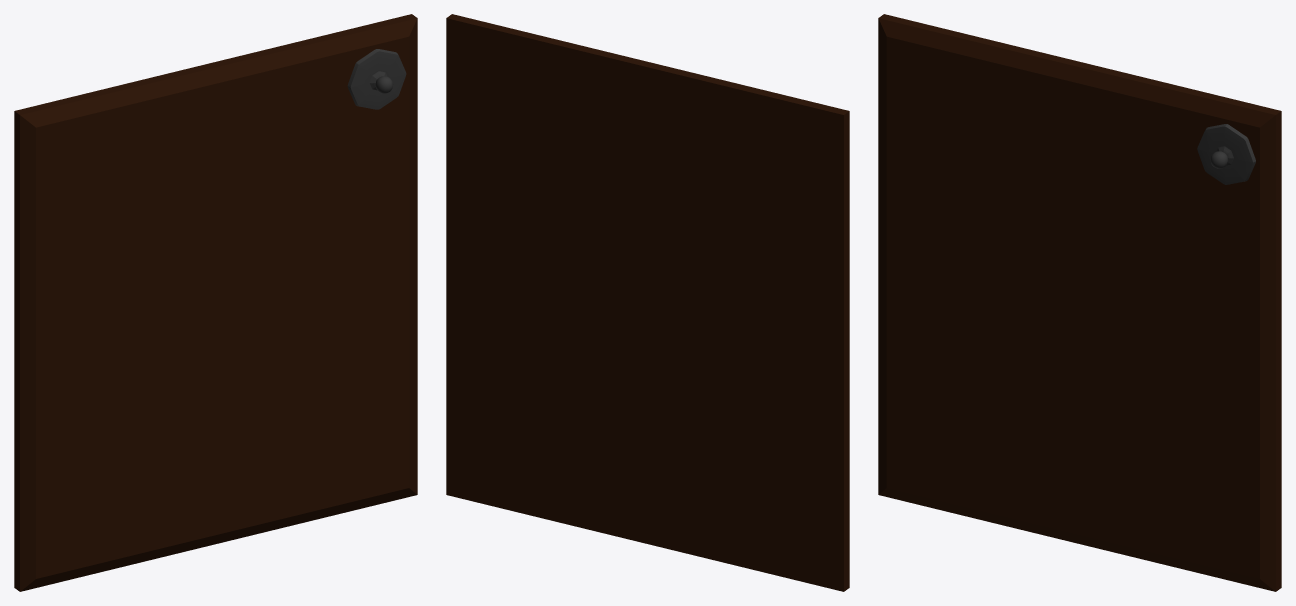
File: cabinet_lower_door_left.FBX
3 views of the same model, side by side, from view 1: azimuth 30°, elevation 25°; view 2: azimuth 150°, elevation 25°; view 3: azimuth 330°, elevation 25° (orthographic).
Visible parts, largest first — view 1: cabinet_lower_door_left; view 2: cabinet_lower_door_left; view 3: cabinet_lower_door_left.
Part boxes in pixels (left/top/right/bottom): cabinet_lower_door_left: left=14, top=14, right=417, bottom=591; cabinet_lower_door_left: left=446, top=14, right=849, bottom=591; cabinet_lower_door_left: left=878, top=14, right=1281, bottom=591.
Size of the model in its own units: 32.64 by 37.41 by 3.1.
